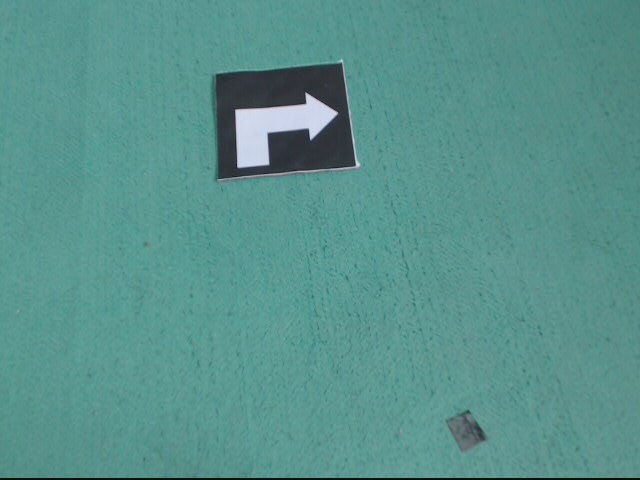right: (213, 62, 361, 180)
